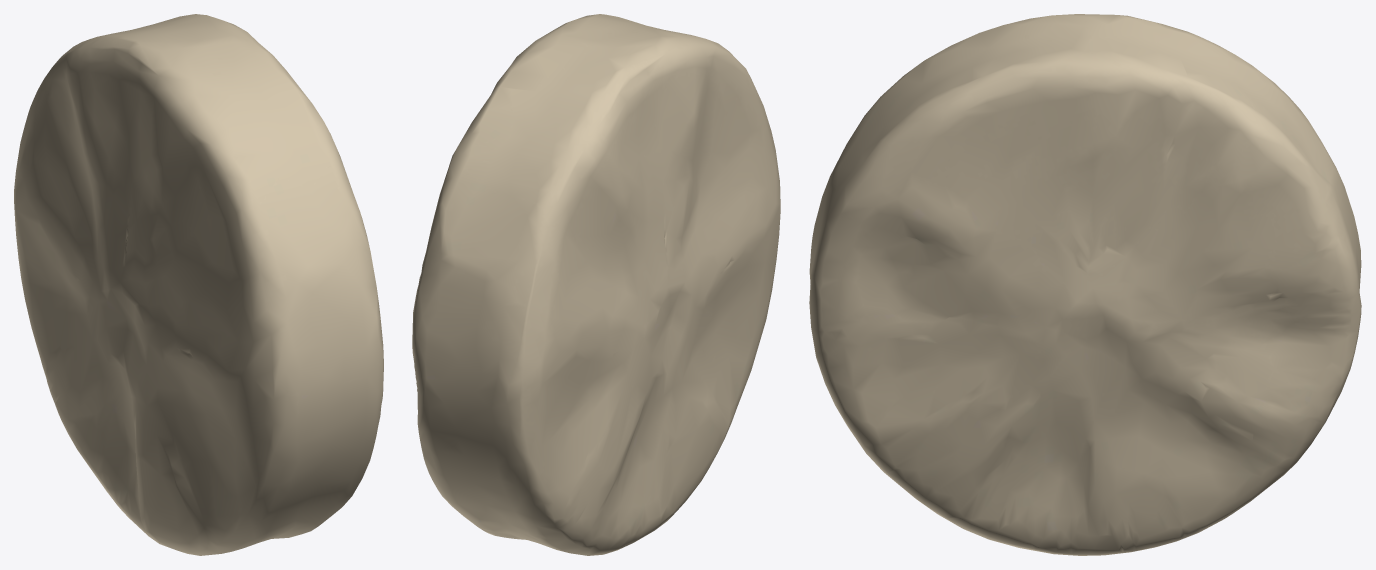
File: mandrake+slice.obj
3 renders of one model, left to right at view 1: azimuth 30°, elevation 25°; view 2: azimuth 150°, elevation 25°; view 3: azimuth 270°, elevation 25°, orthographic. The views are drawn at different scales.
Visible parts, largest first — view 1: meshes[0]; view 2: meshes[0]; view 3: meshes[0].
Boxes of the visible parts, x1,y1,x2,y2 form: meshes[0]: (14, 14, 383, 555); meshes[0]: (412, 14, 780, 555); meshes[0]: (809, 14, 1361, 555).
Bounding box in the file's own units: 0.3251 × 0.981 × 0.9811.
1 material, 1 textured.
